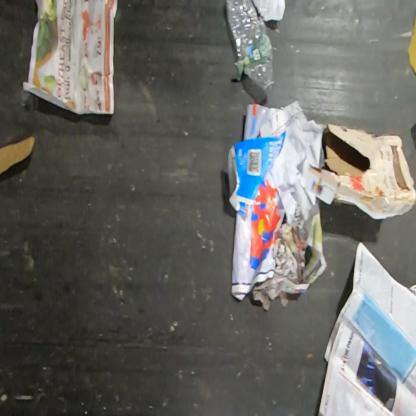cardboard: (308, 122, 415, 221), (0, 136, 37, 178)
rigid_plastic: (224, 0, 275, 96)
